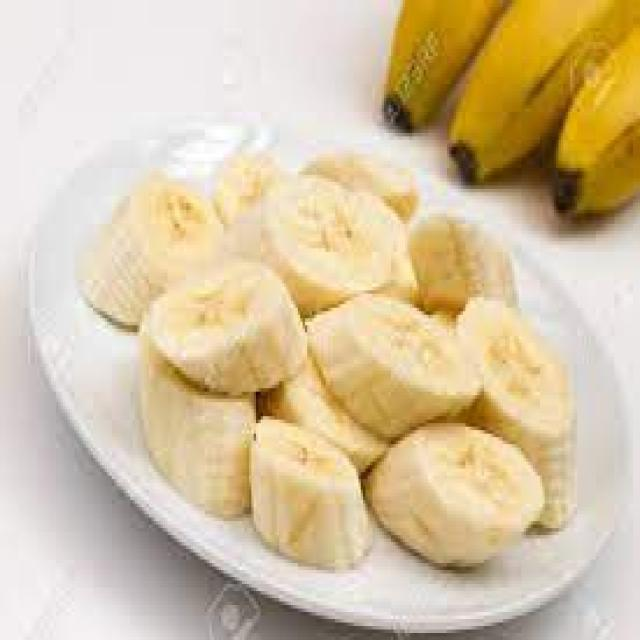Banana: (86, 140, 575, 577)
